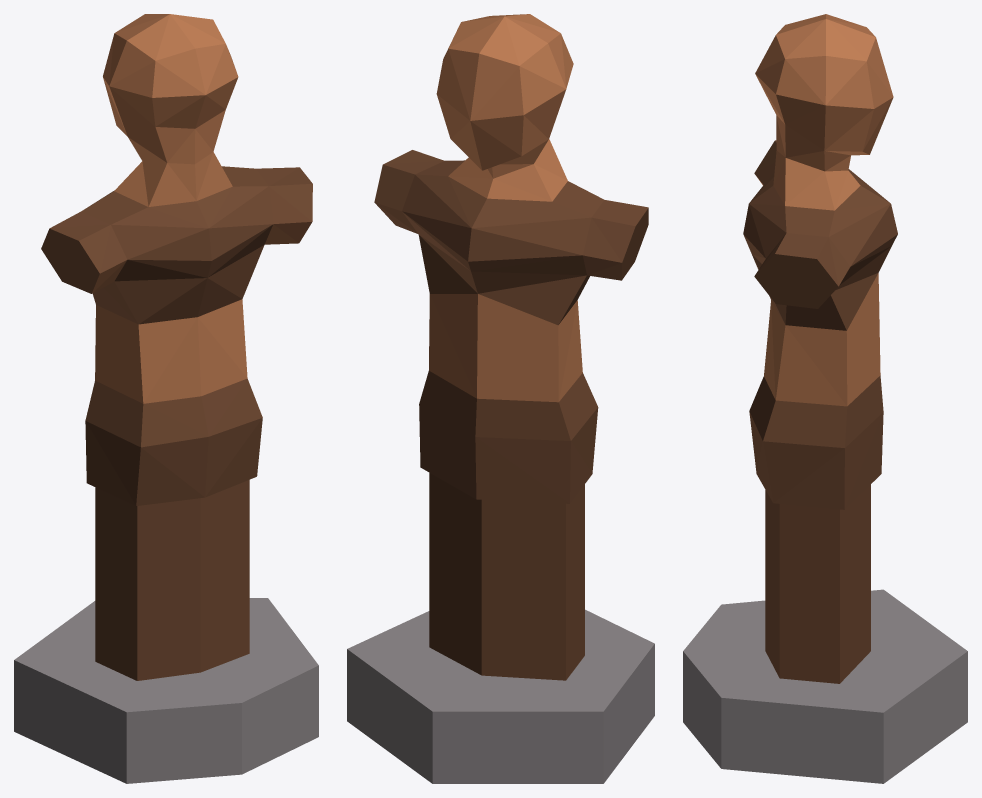
Rendered from Stuffed_Animal.fbx.
3 renders of one model, left to right at view 1: azimuth 30°, elevation 25°; view 2: azimuth 150°, elevation 25°; view 3: azimuth 270°, elevation 25°, orthographic.
Parts seen in each view (by area): view 1: Stuffed Animal; view 2: Stuffed Animal; view 3: Stuffed Animal.
Part boxes in pixels (x1,y1,x2,y2): Stuffed Animal: (14, 14, 318, 783); Stuffed Animal: (347, 14, 654, 783); Stuffed Animal: (683, 14, 967, 783).
Size of the model in its own units: 0.6767 by 0.6611 by 1.8.
